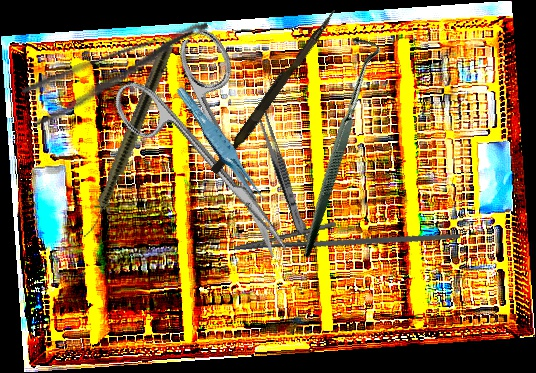Dressing Forceps: (19, 17, 222, 130), (252, 104, 309, 237)
Handpiece: (80, 42, 175, 242)
Hook Surgical: (220, 29, 449, 259)
Iris Scissors: (103, 25, 330, 288)
Needle Holder: (230, 189, 461, 279)
Pusher: (210, 4, 338, 178)
Tissue Forceps: (174, 80, 270, 215)
